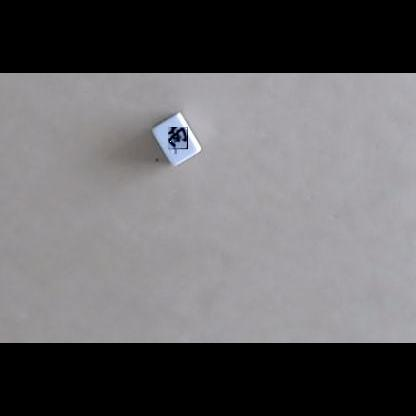2z: (168, 128, 188, 154)
